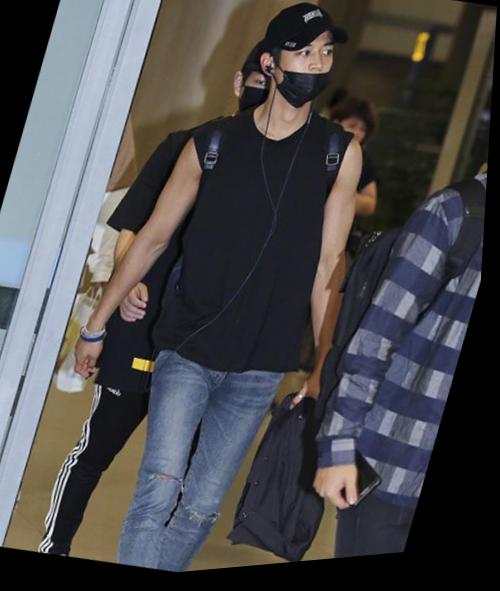OK: (234, 64, 292, 131)
WRONG: (262, 30, 344, 113)
